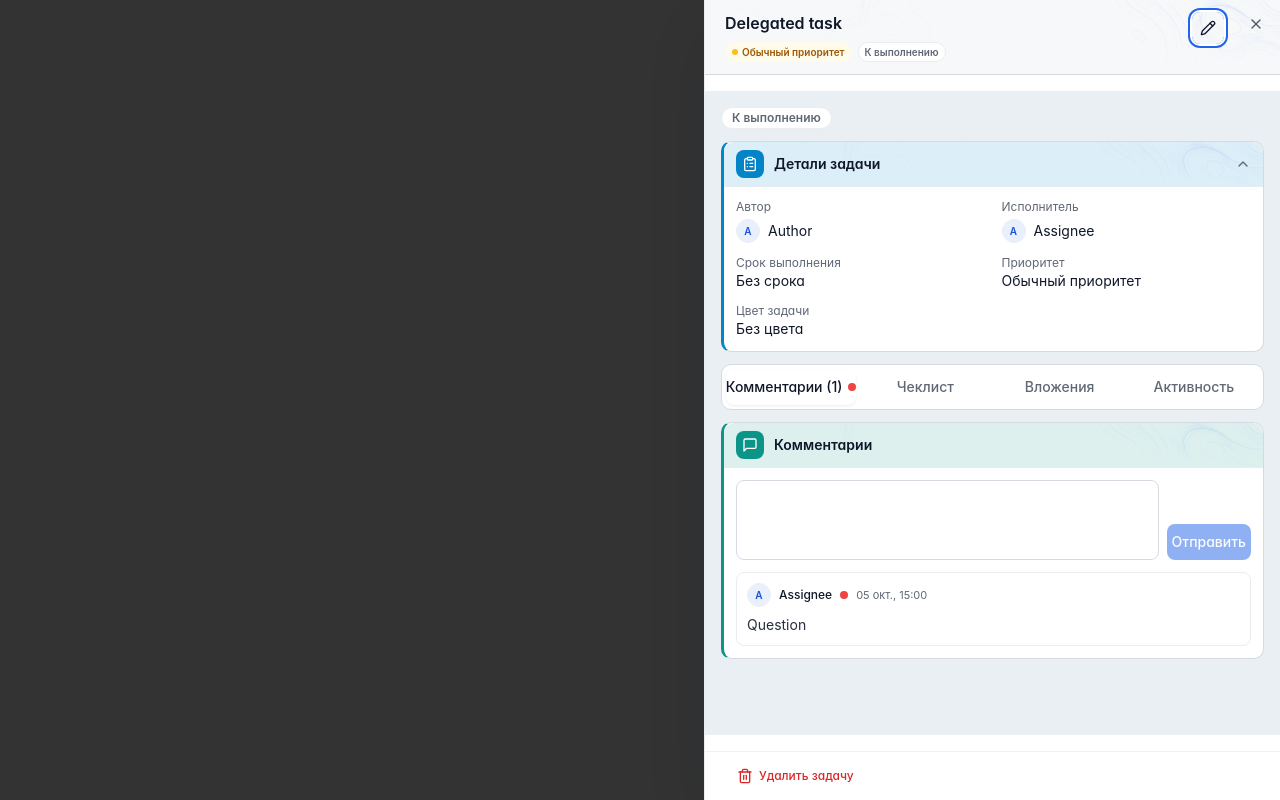
it: localizes unknown activity and status codes in ru
Click the tab "Активность": {"x": 1194, "y": 387} [1129,369,1259,405]
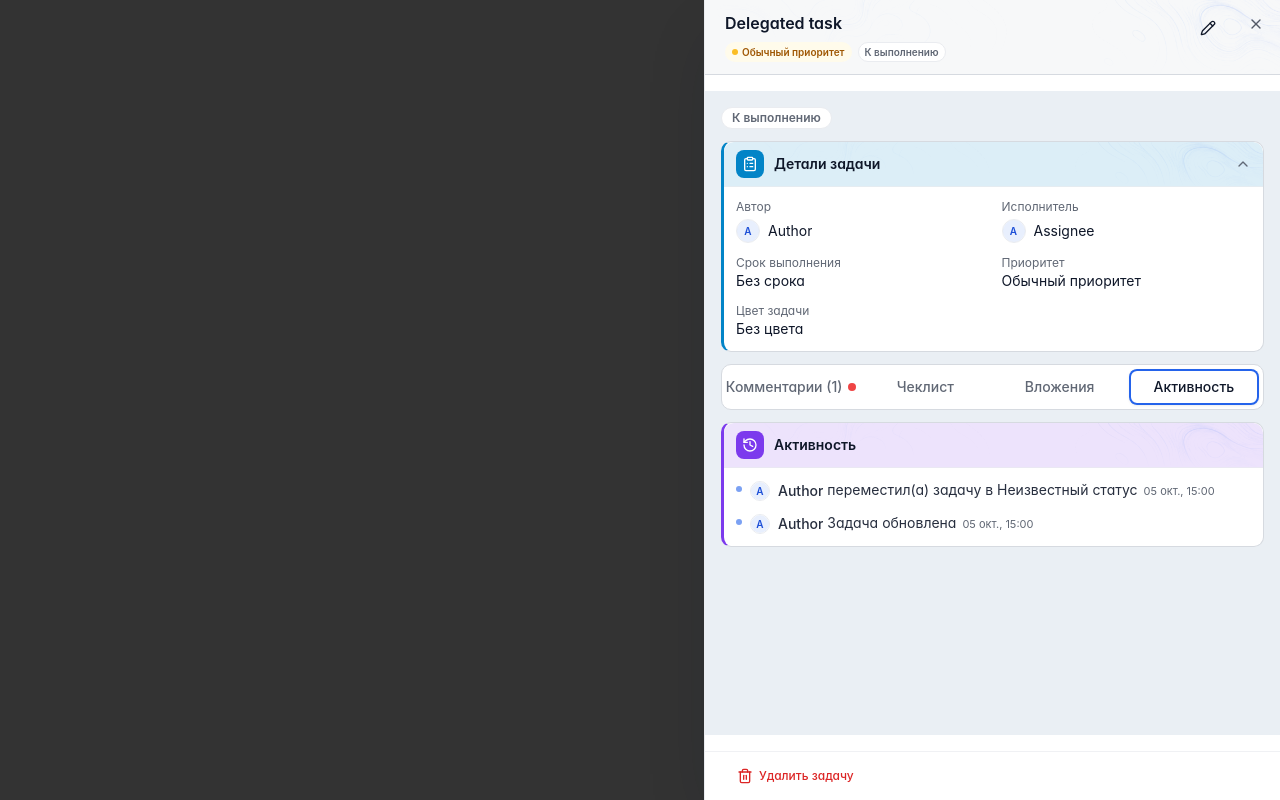
expect the text "Задача обновлена" is shown: met, box [827,514,956,531]
